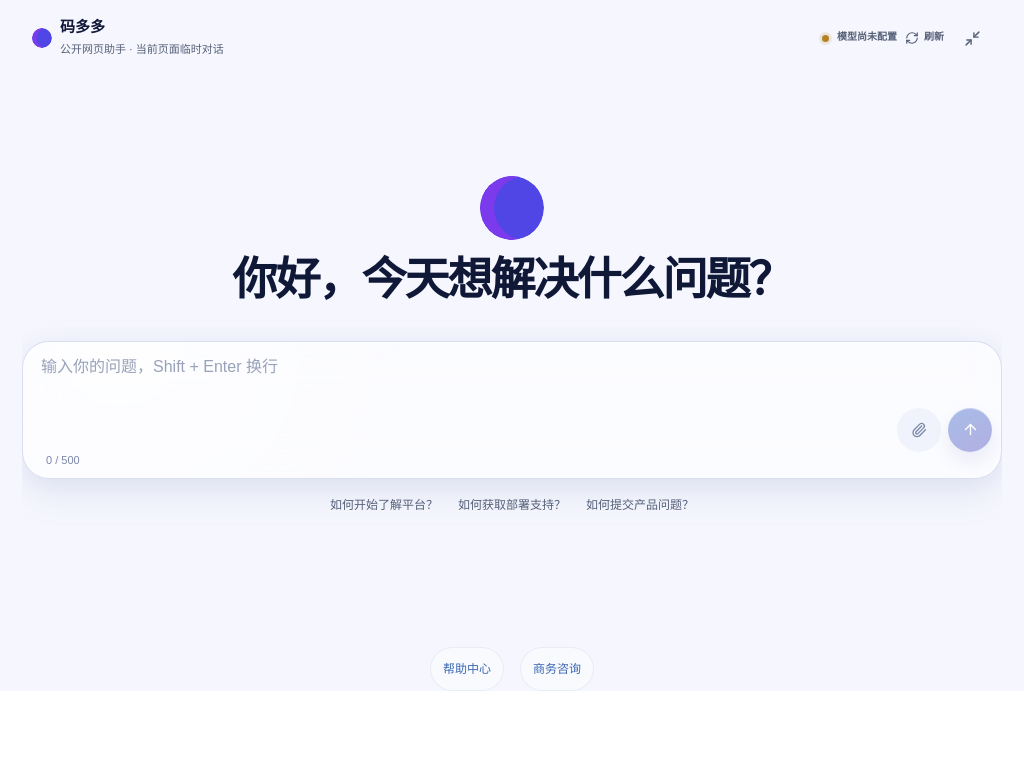
Test: AssistantWorkspace › times out a pending status body and recovers with a safe degraded result
Click the button with aria-label "刷新服务状态" at (924, 38), box [905, 16, 944, 60]
Wait 5000 ms
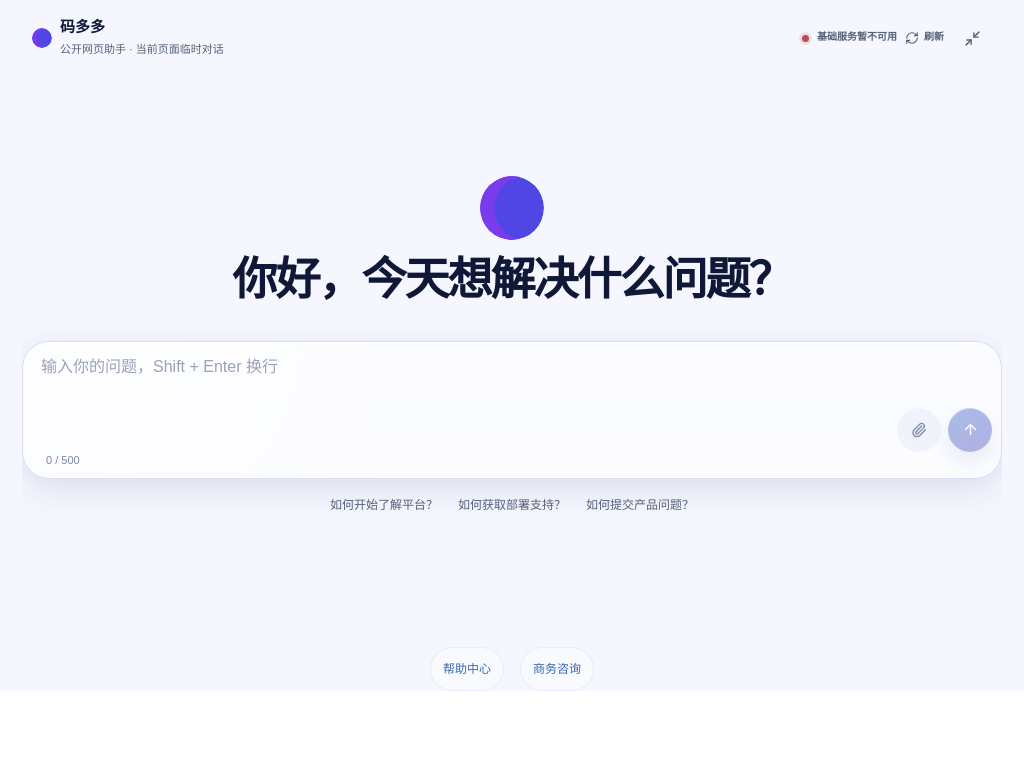
Now the message with test id "assistant-service-state" shows "基础服务暂不可用", box [817, 32, 897, 43]
